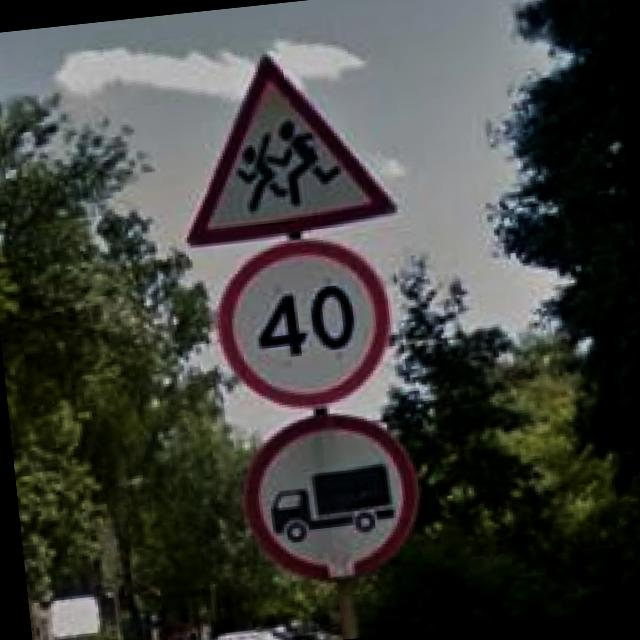Dzieci: (168, 39, 399, 248)
Ograniczenie predkosci do 40: (210, 230, 398, 416)
